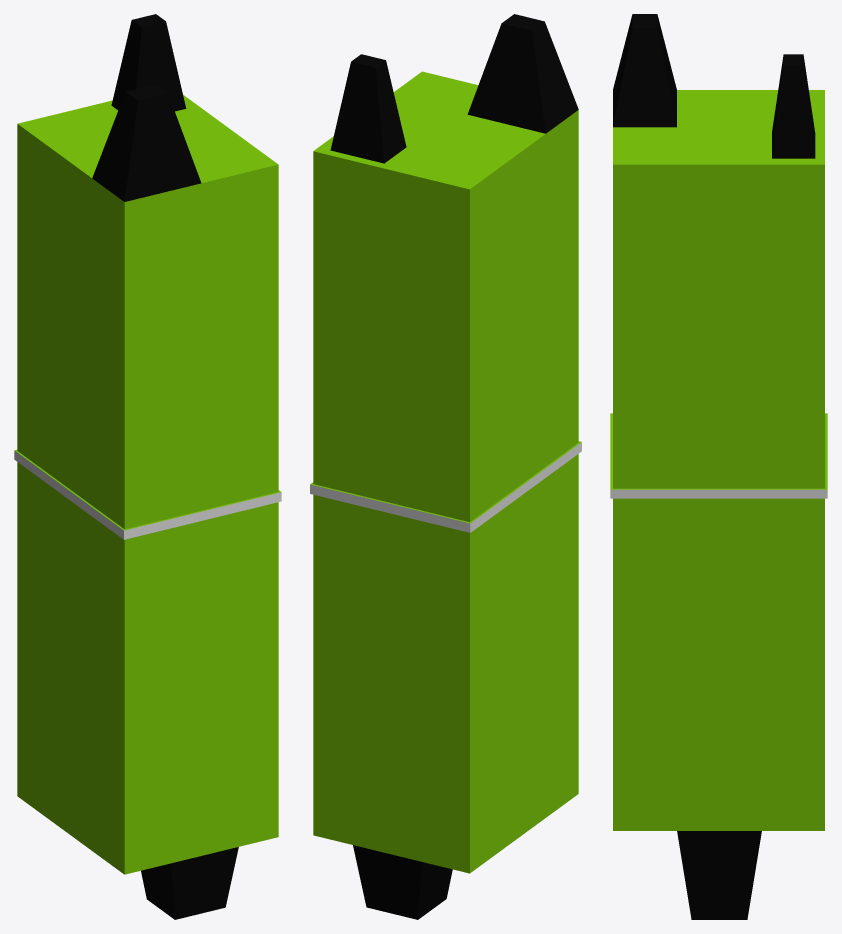
Rendered from Fusible_5_fake.fbx.
The picture shows the model from 3 angles, left to right: view 1: azimuth 30°, elevation 25°; view 2: azimuth 150°, elevation 25°; view 3: azimuth 270°, elevation 25°; orthographic projection. The views are drawn at different scales.
Parts seen in each view (by area): view 1: Fusible.005; view 2: Fusible.005; view 3: Fusible.005.
Part boxes in pixels (x1=…): Fusible.005: x1=14, y1=14, x2=281, y2=919; Fusible.005: x1=310, y1=14, x2=581, y2=919; Fusible.005: x1=610, y1=14, x2=827, y2=919.
Bounding box in the file's own units: 49.06 × 255 × 59.1.
